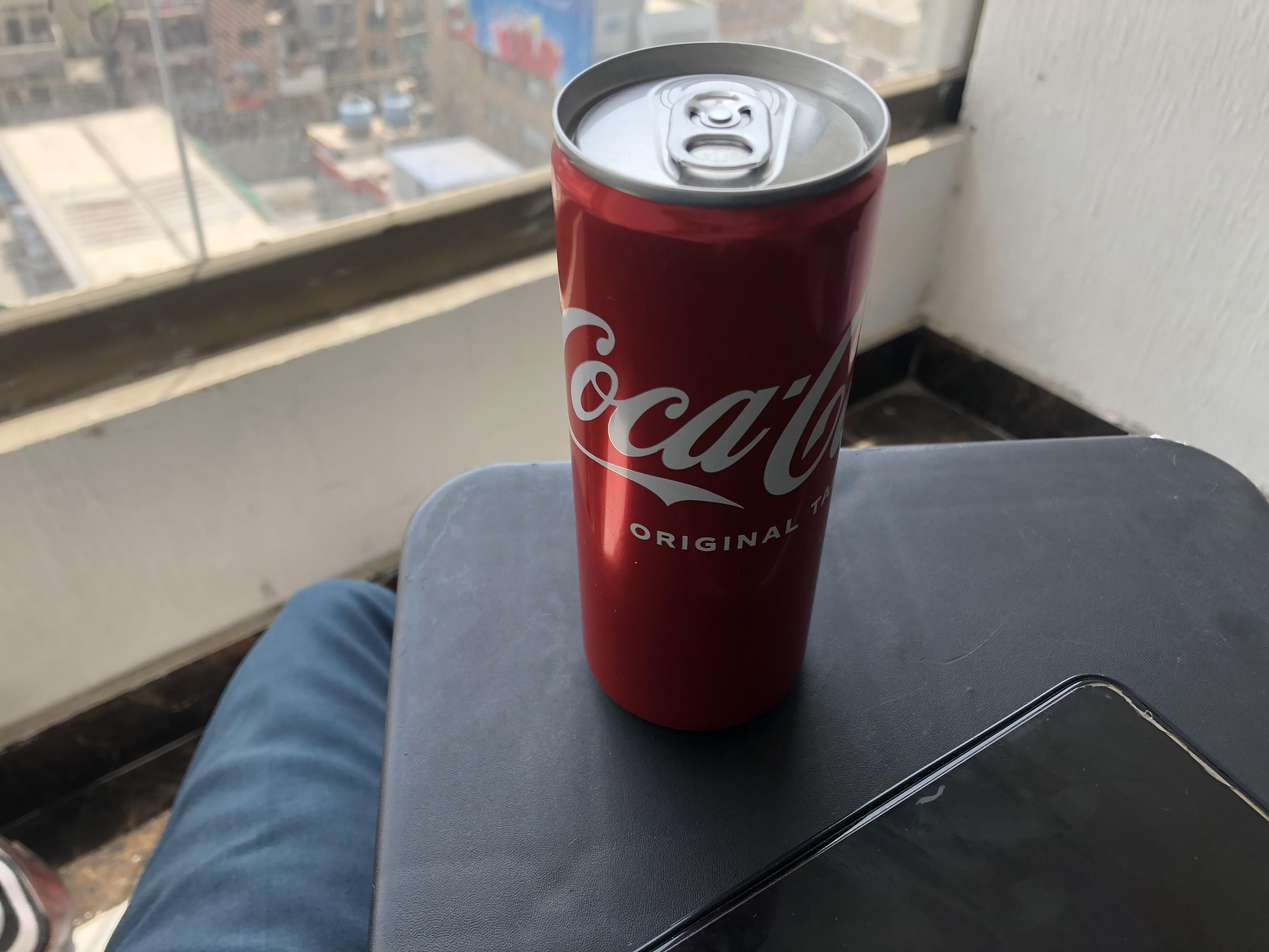tin can: (549, 39, 892, 742)
